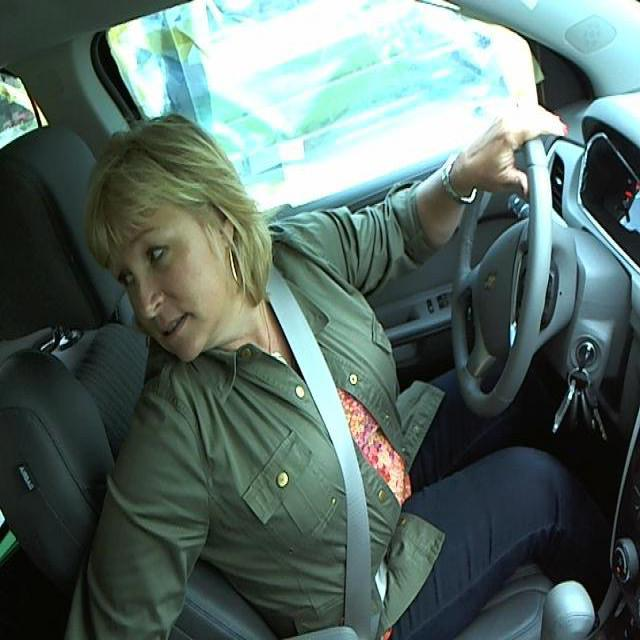seatbelt: (265, 298, 387, 622)
